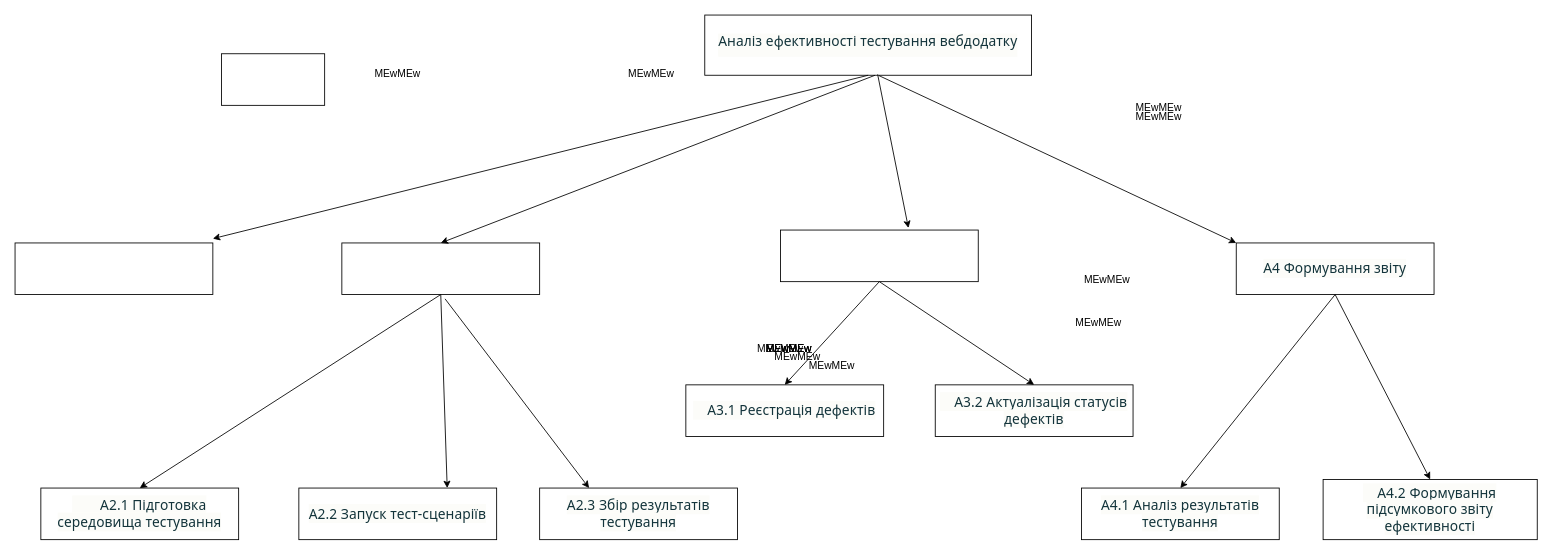
Image size: 1552x555. Some labels were removed from this diagram. The shapes that lost their labels are listed below. From the top down, each one's centre as x and y in pixels, then its label:
At (273,79): "Mew".
At (113,268): "A1 Авторизація користувача".
At (440,268): "A2 Проведення тестування".
At (879,255): "A3 Документування дефектів".
